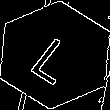L_NE: (25, 26, 85, 84)
